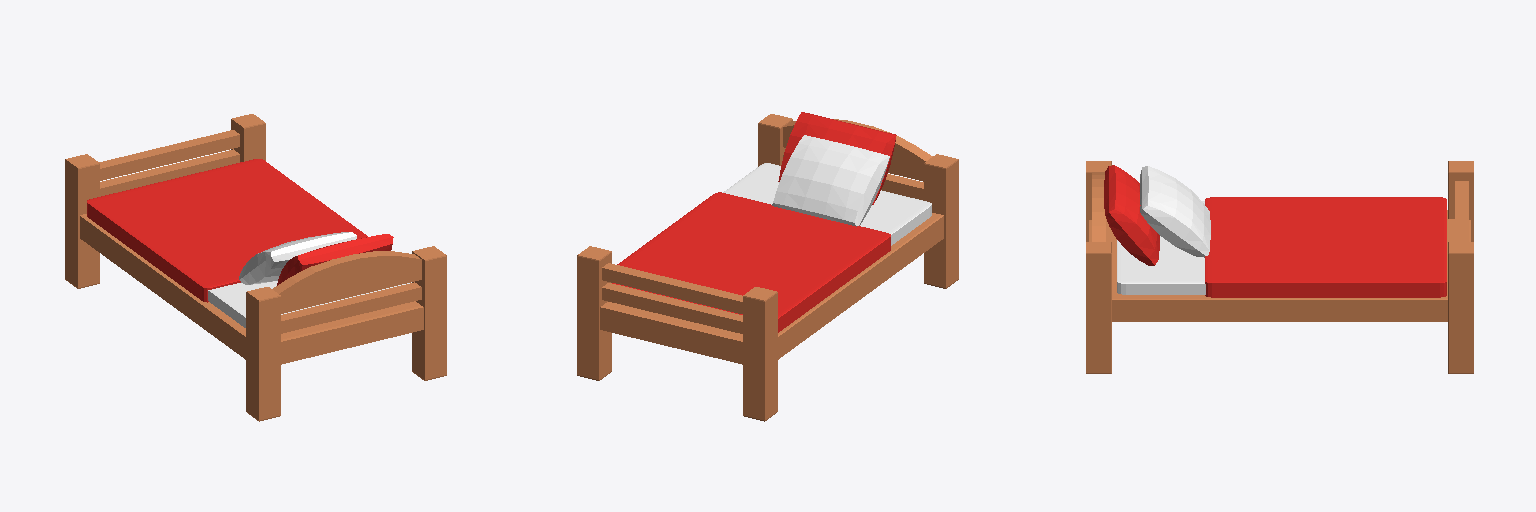
Rendered from Bed.obj.
The picture shows the model from 3 angles: view 1: azimuth 30°, elevation 25°; view 2: azimuth 150°, elevation 25°; view 3: azimuth 270°, elevation 25°; orthographic projection.
Parts seen in each view (by area): view 1: Bed_Cube.001; view 2: Bed_Cube.001; view 3: Bed_Cube.001.
Part boxes in pixels (x1,y1,x2,y2): Bed_Cube.001: (65, 114, 446, 421); Bed_Cube.001: (577, 112, 958, 421); Bed_Cube.001: (1086, 161, 1473, 373).
Bounding box in the file's own units: 2.55 × 1.87 × 4.56.